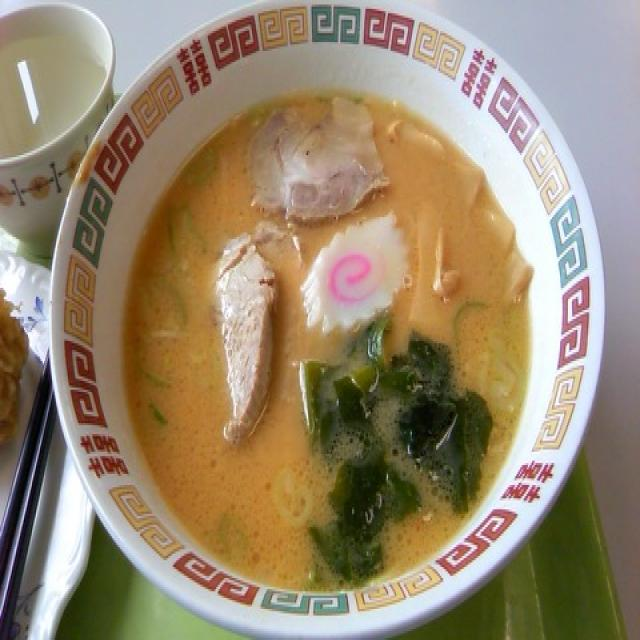面条主食: (45, 0, 608, 638)
